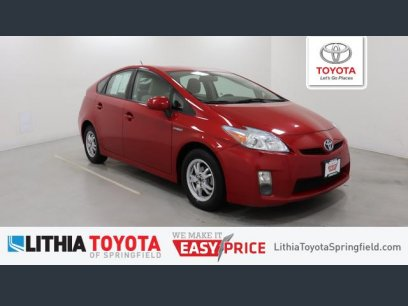Toyota Prius: (76, 62, 354, 215)
